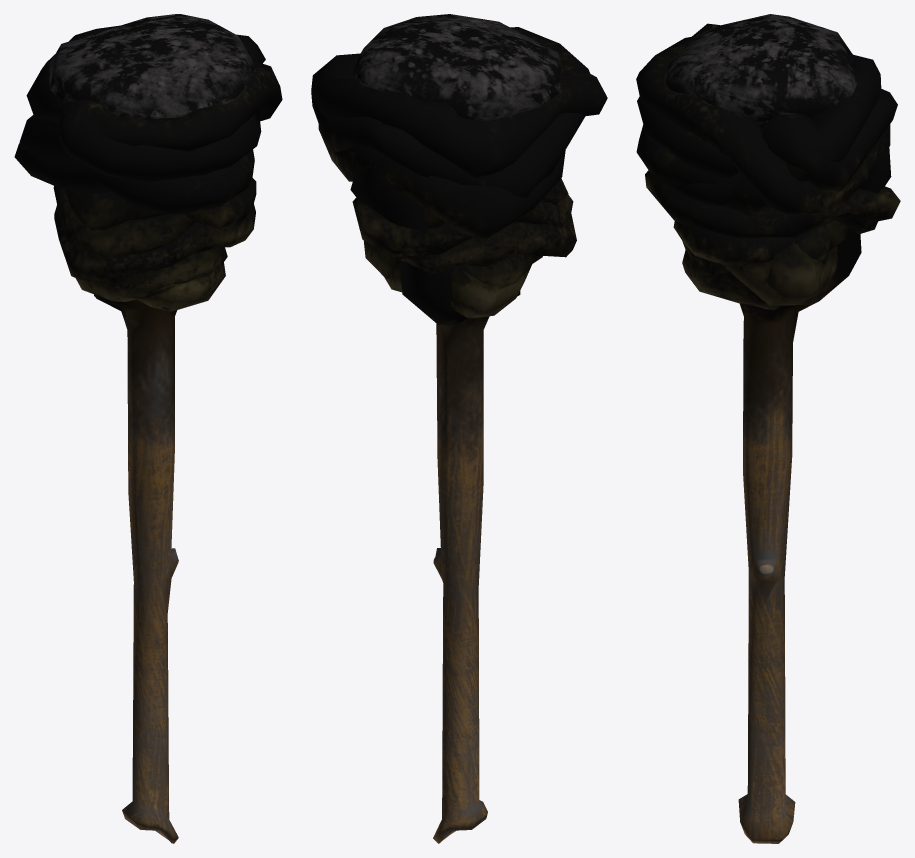
File: Torch.fbx
3 views of the same model, side by side, from view 1: azimuth 30°, elevation 25°; view 2: azimuth 150°, elevation 25°; view 3: azimuth 270°, elevation 25° (orthographic).
Parts seen in each view (by area): view 1: TorchL; view 2: TorchL; view 3: TorchL.
Part boxes in pixels (x1,y1,x2,y2): TorchL: [14, 14, 282, 843]; TorchL: [311, 14, 607, 843]; TorchL: [636, 14, 900, 843].
Bounding box in the file's own units: 17.37 × 53.59 × 16.15.
